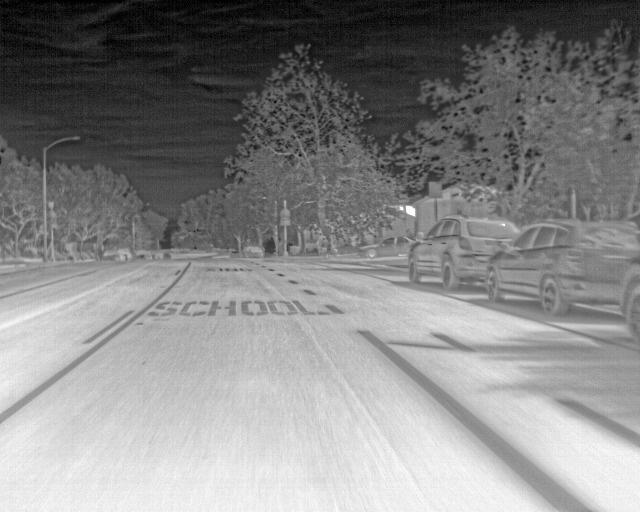car: (489, 219, 639, 316), (407, 216, 522, 293), (618, 260, 639, 346), (358, 235, 415, 260), (241, 242, 266, 260)
